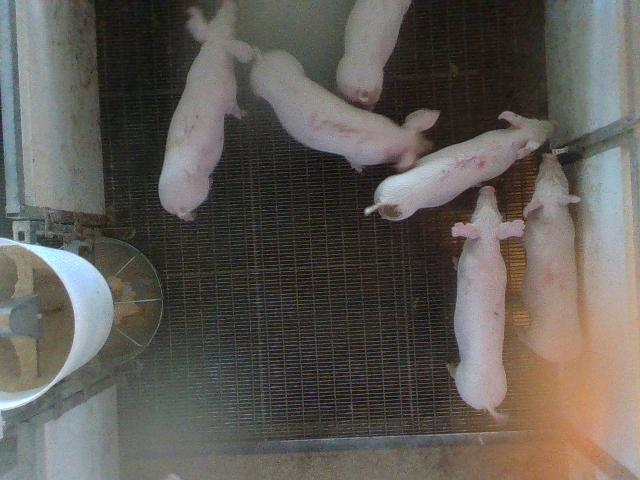pig-3: (250, 51, 438, 171)
pig-4: (522, 154, 582, 362)
pig-5: (365, 111, 555, 221)
